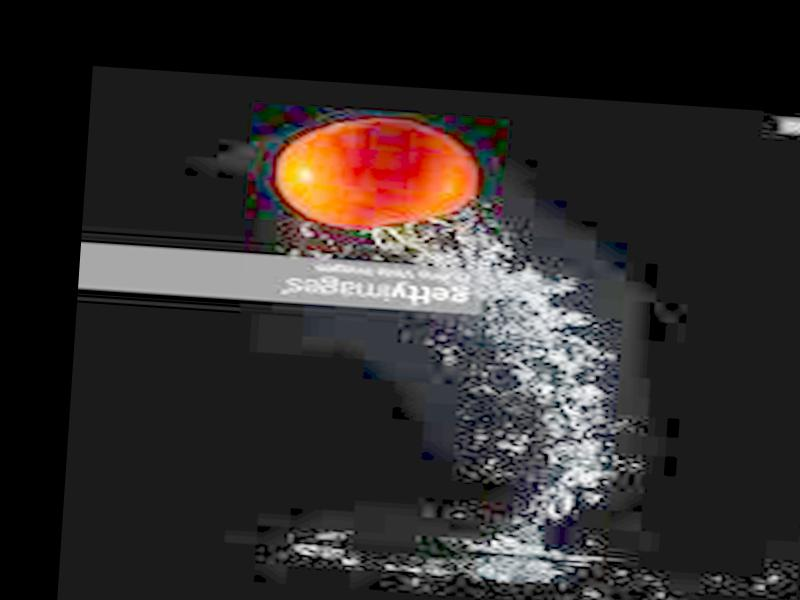Tomato: (273, 116, 483, 237)
